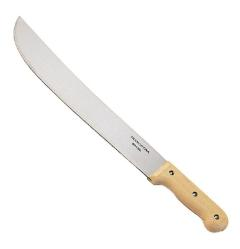MACHETTE: (10, 12, 240, 247)
